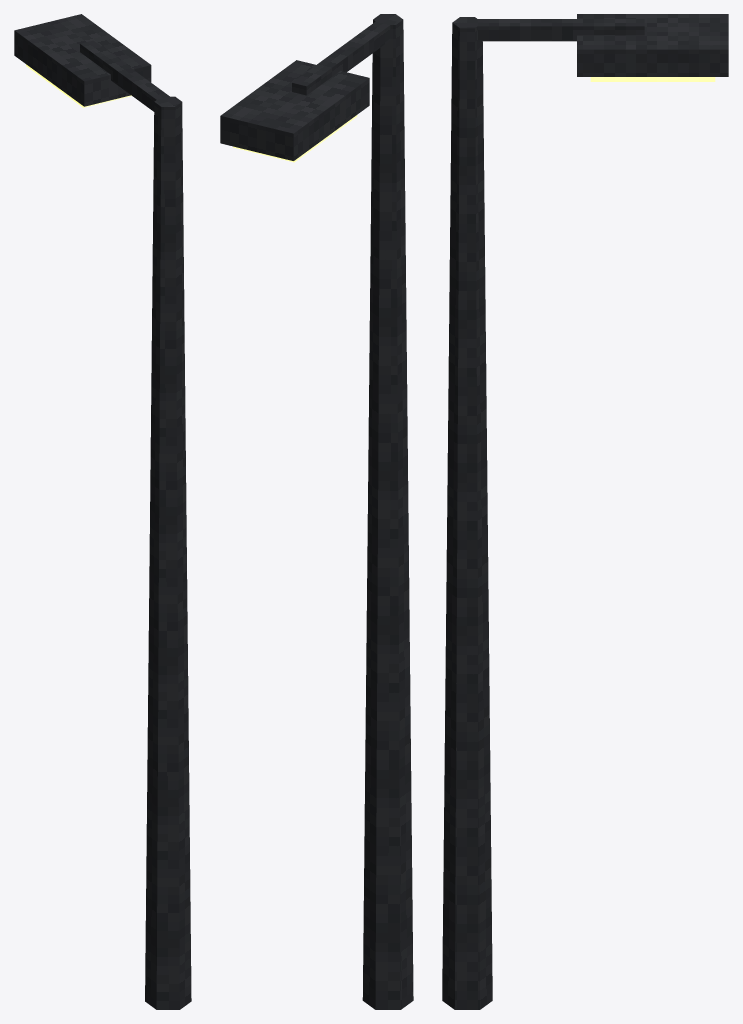
File: env_street_lamp.glb
3 views of the same model, side by side, from view 1: azimuth 30°, elevation 25°; view 2: azimuth 150°, elevation 25°; view 3: azimuth 270°, elevation 25° (orthographic). The views are drawn at different scales.
Visible parts, largest first — view 1: env_street_lamp; view 2: env_street_lamp; view 3: env_street_lamp.
Part boxes in pixels (x1=…): env_street_lamp: x1=14, y1=14, x2=191, y2=1009; env_street_lamp: x1=220, y1=14, x2=413, y2=1009; env_street_lamp: x1=442, y1=14, x2=728, y2=1009.
Size of the model in its own units: 0.5 by 6.4 by 1.7.
2 materials, 2 textured.
